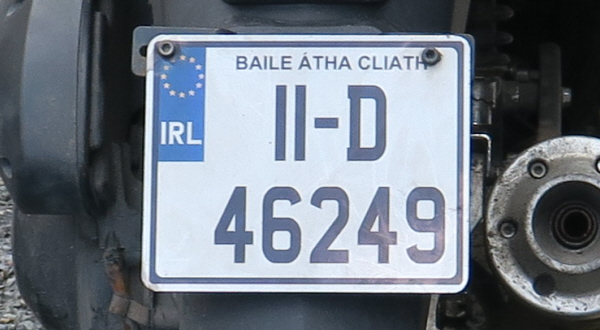license_plate: (143, 33, 468, 293)
